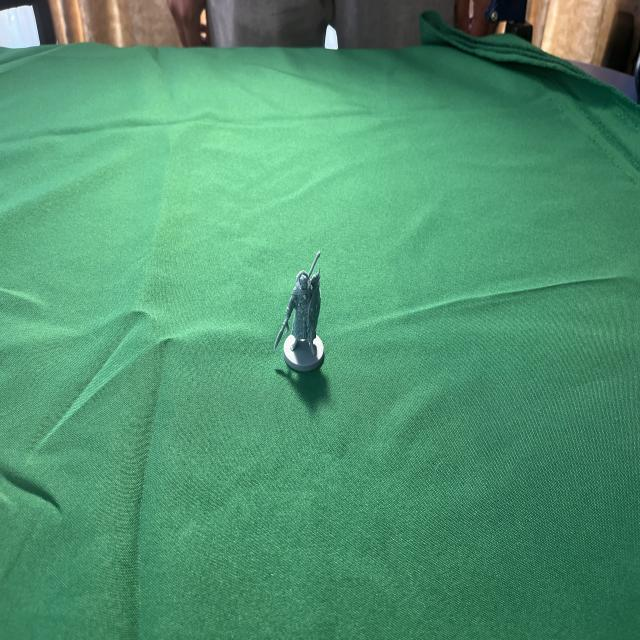isis_follower: (273, 252, 333, 376)
